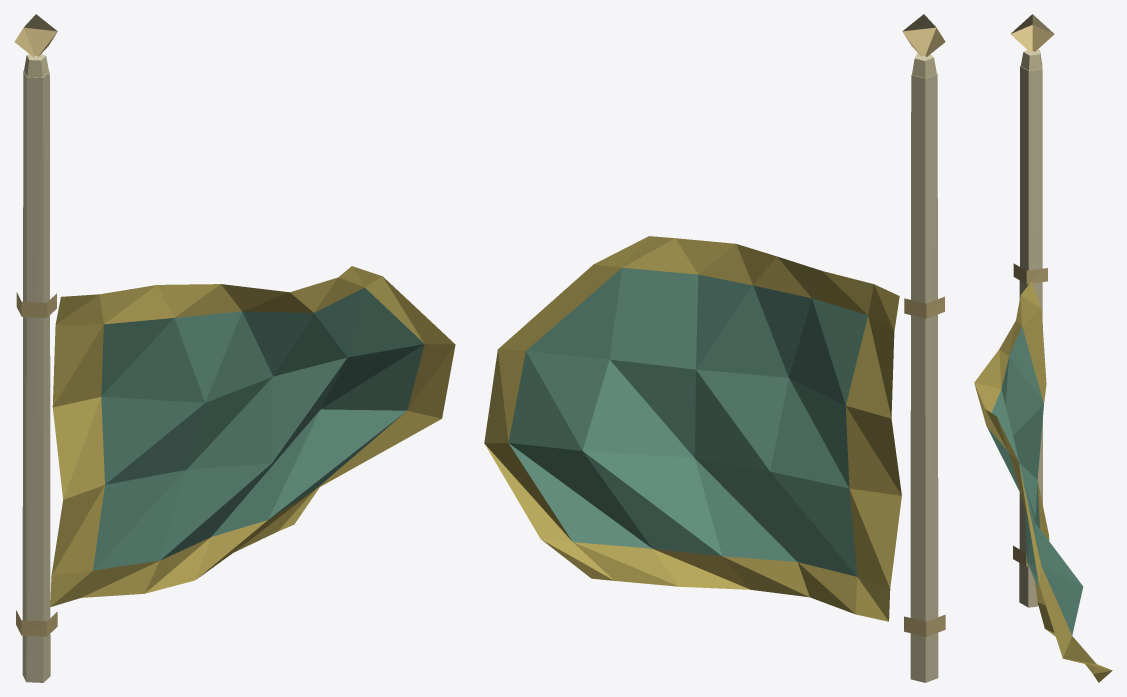
The model's file is flag.roundFly.cuiqi__pole.stick.mugun__midmast.glb.
3 views of the same model, side by side, from view 1: azimuth 30°, elevation 25°; view 2: azimuth 150°, elevation 25°; view 3: azimuth 270°, elevation 25° (orthographic). The views are drawn at different scales.
Visible parts, largest first — view 1: flag.roundFly.cuiqi; view 2: flag.roundFly.cuiqi; view 3: flag.roundFly.cuiqi.
Boxes of the visible parts, x1,y1,x2,y2 form: flag.roundFly.cuiqi: (14, 14, 455, 682); flag.roundFly.cuiqi: (484, 14, 945, 682); flag.roundFly.cuiqi: (974, 14, 1112, 682).
Bounding box in the file's own units: 1.46 × 2.08 × 0.4452.
